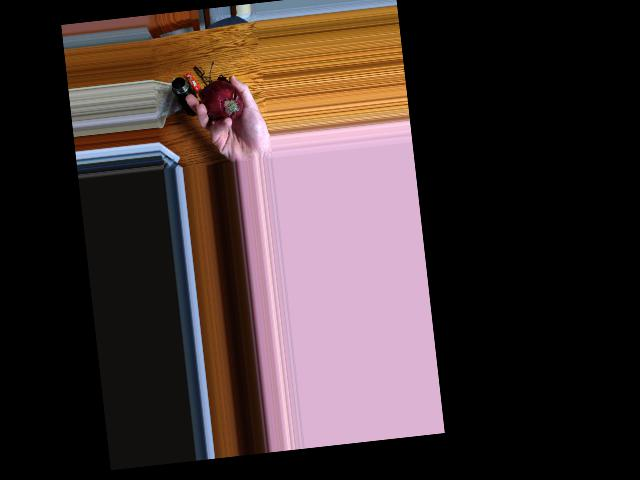onion: (204, 79, 247, 127)
